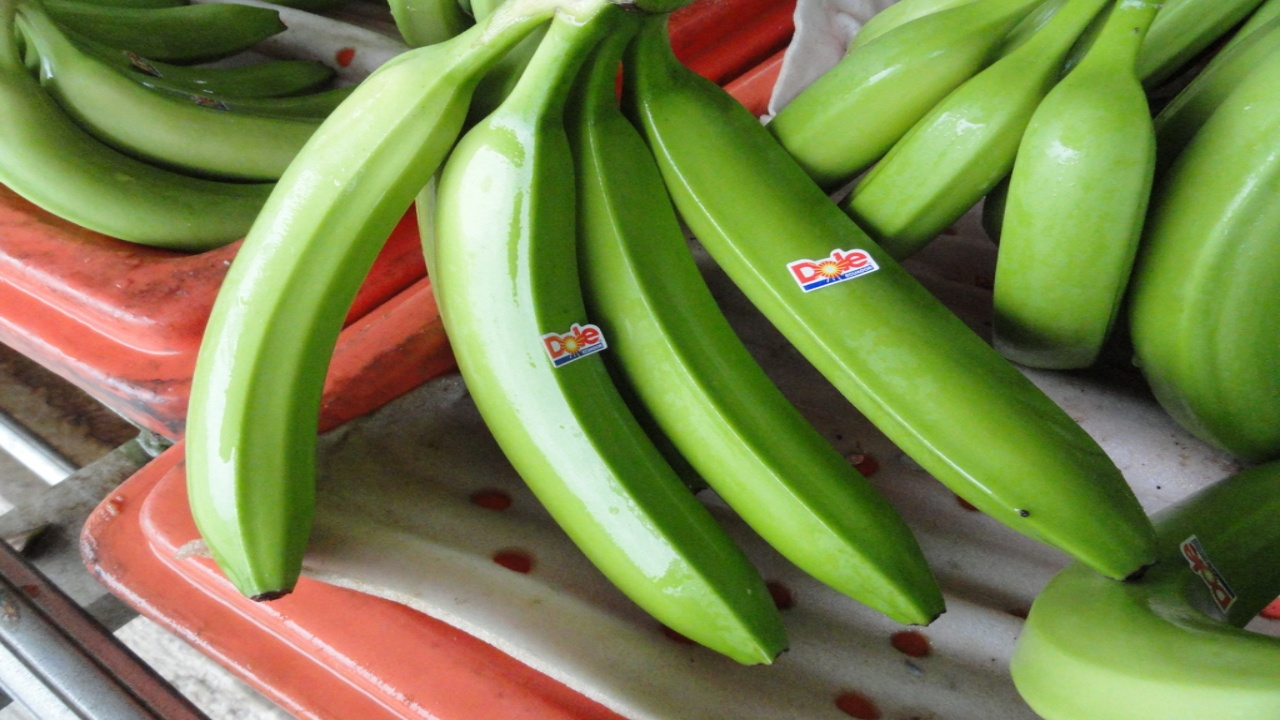banana: (197, 3, 1200, 666)
